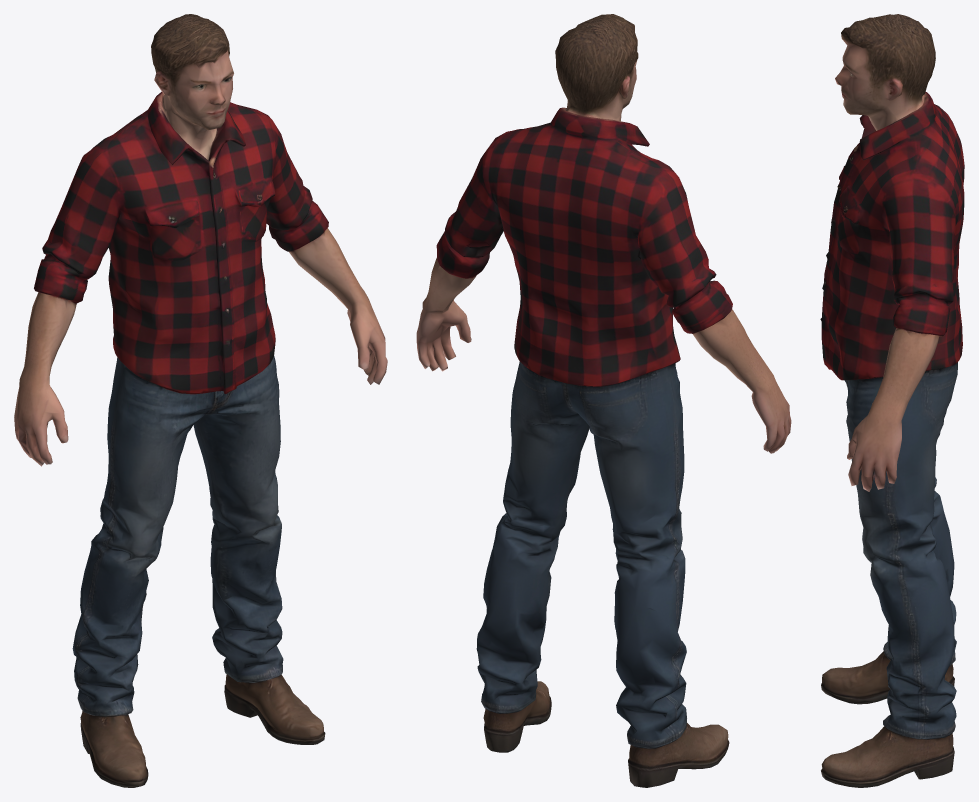
File: npc_cowboy.glb
The picture shows the model from 3 angles, left to right: view 1: azimuth 30°, elevation 25°; view 2: azimuth 150°, elevation 25°; view 3: azimuth 270°, elevation 25°; orthographic projection.
Visible parts, largest first — view 1: tripo_node_9b0ddd28-a446-41e6-9f44-49bab5d24ac7; view 2: tripo_node_9b0ddd28-a446-41e6-9f44-49bab5d24ac7; view 3: tripo_node_9b0ddd28-a446-41e6-9f44-49bab5d24ac7.
Boxes of the visible parts, bbox=[...] form: tripo_node_9b0ddd28-a446-41e6-9f44-49bab5d24ac7: bbox=[14, 14, 387, 787]; tripo_node_9b0ddd28-a446-41e6-9f44-49bab5d24ac7: bbox=[416, 14, 791, 787]; tripo_node_9b0ddd28-a446-41e6-9f44-49bab5d24ac7: bbox=[820, 14, 964, 787].
Size of the model in its own units: 0.9667 by 1.85 by 0.3359.
Materials: 1 (1 with a texture image).
